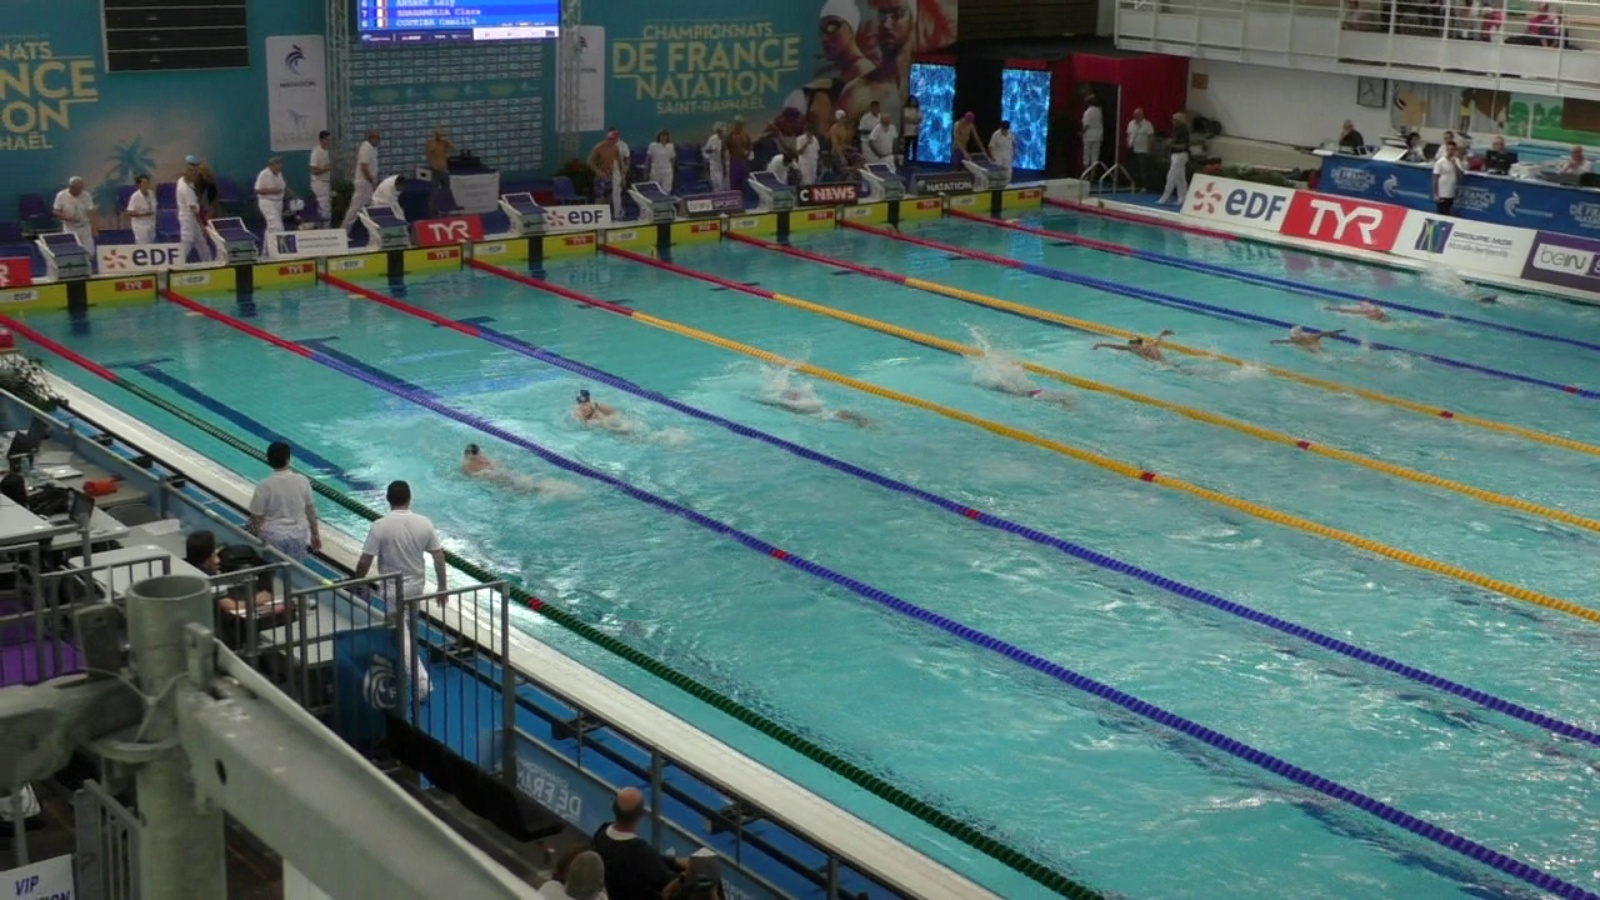swimmerw: (1095, 327, 1209, 384), (746, 389, 878, 431), (451, 441, 535, 501), (566, 387, 651, 444), (1270, 327, 1367, 371), (1322, 297, 1425, 336), (979, 371, 1079, 408), (1431, 278, 1503, 305)
